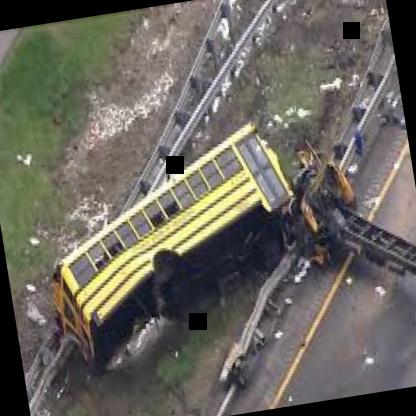accident: (27, 110, 365, 372)
